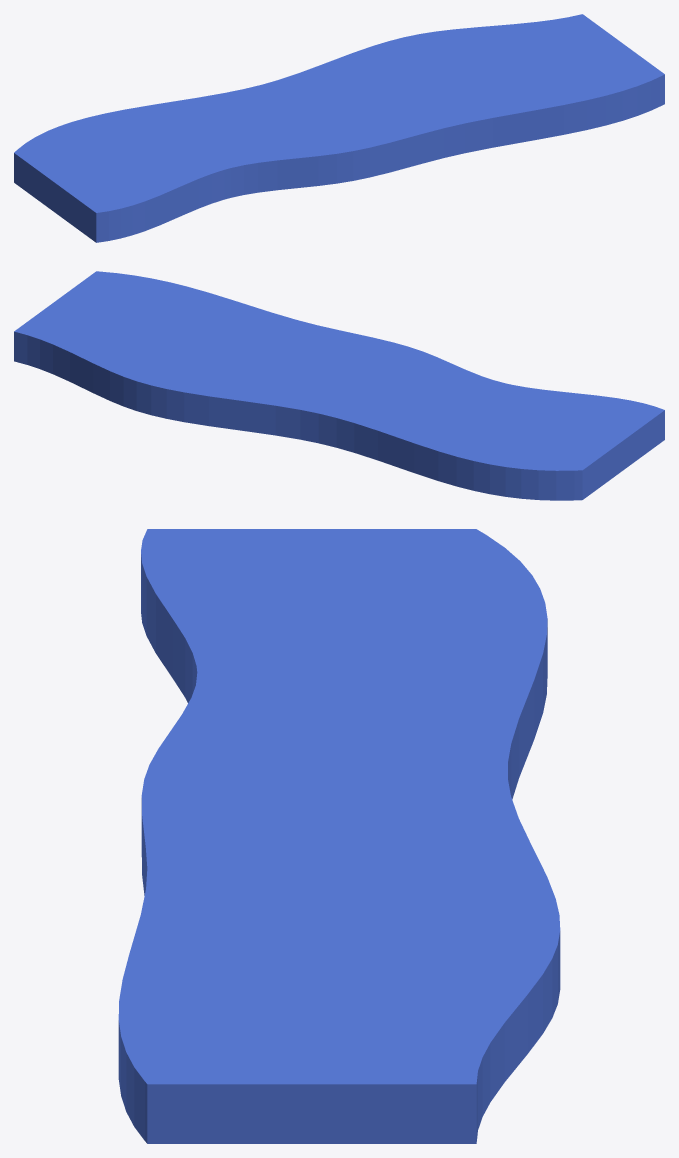
File: fleuve_droit.fbx
3 renders of one model, top to bottom at view 1: azimuth 30°, elevation 25°; view 2: azimuth 150°, elevation 25°; view 3: azimuth 270°, elevation 25°, orthographic. The views are drawn at different scales.
Visible parts, largest first — view 1: fleuve_droit; view 2: fleuve_droit; view 3: fleuve_droit.
Boxes of the visible parts, x1,y1,x2,y2 form: fleuve_droit: (14,14,664,242); fleuve_droit: (14,271,664,500); fleuve_droit: (118,529,560,1143).
Bounding box in the file's own units: 1994 × 100 × 671.
